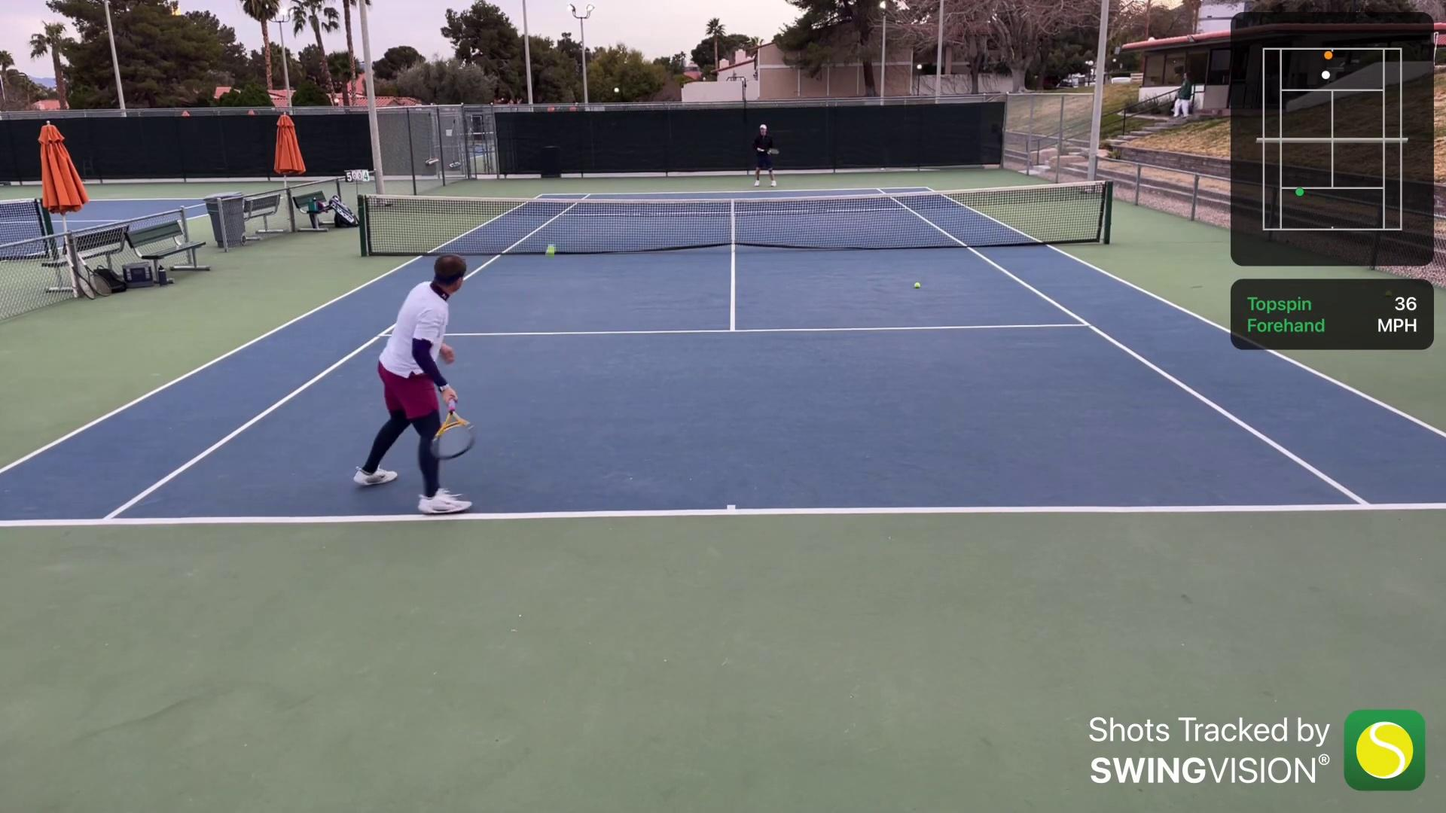ball: (545, 242, 556, 256), (914, 282, 921, 291)
